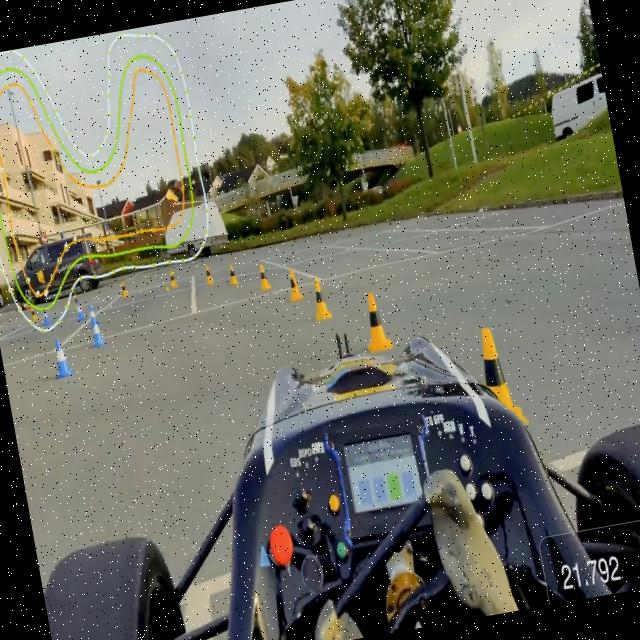blue_cone: (49, 337, 73, 379), (88, 316, 106, 346), (86, 302, 99, 326), (40, 304, 51, 326), (74, 300, 86, 320)
yellow_cone: (464, 321, 530, 434), (359, 290, 394, 354), (310, 278, 332, 320), (286, 267, 302, 302), (256, 264, 270, 289), (226, 262, 239, 285), (167, 269, 179, 288), (203, 264, 214, 284), (28, 302, 39, 322), (120, 280, 130, 298)
